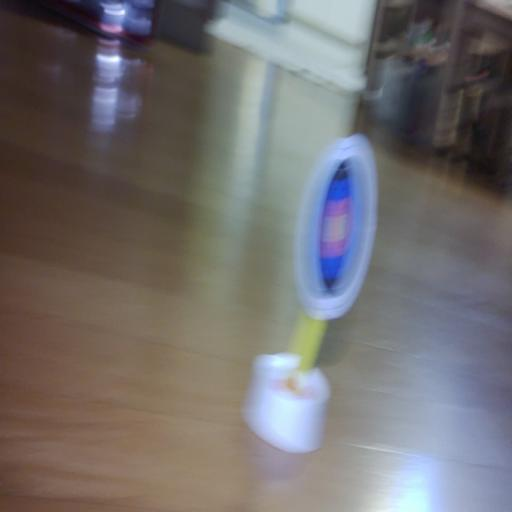target: (294, 134, 377, 319)
